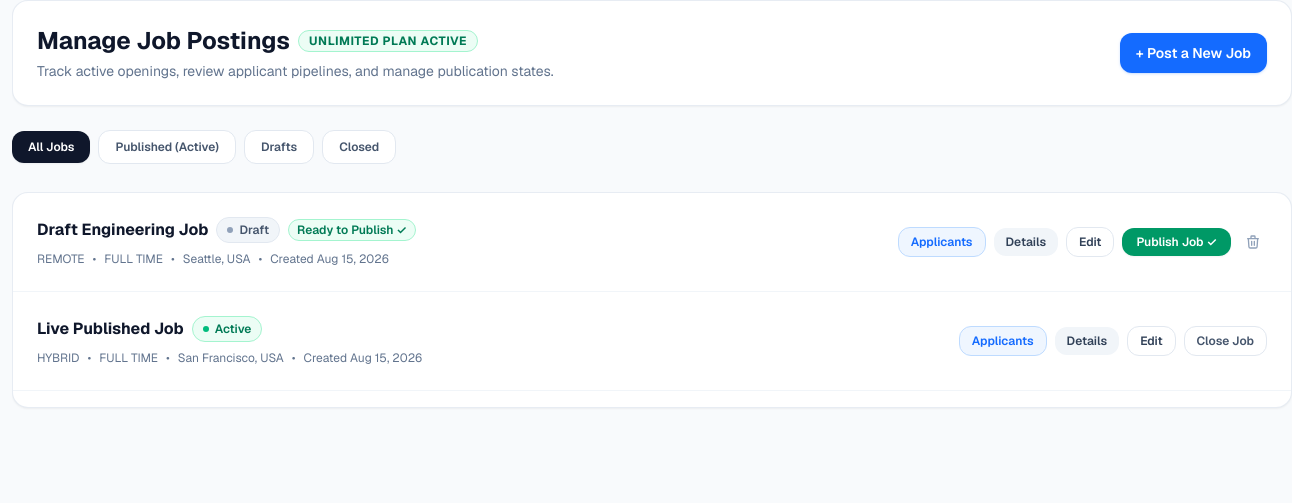
CompanyJobsPage Job Management & Subscription Flow › publishes draft job successfully when company is subscribed
The width and height of the screenshot is (1292, 503).
Expected: the heading "Draft Engineering Job" is shown, left=37, top=218, right=208, bottom=242
What coordinates should you click on to do the following:
click the button "Publish Job ✓"
I would click on:
 (1177, 242)
Its box is left=1122, top=228, right=1231, bottom=256.
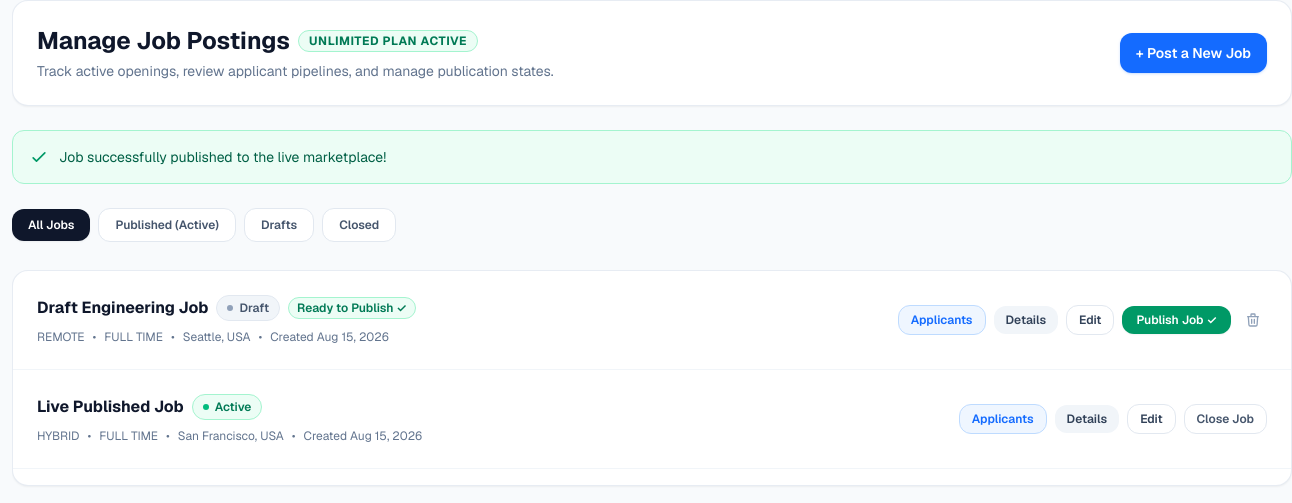
Result: the text "Job successfully published to the live marketplace!" is shown at left=59, top=147, right=386, bottom=167
